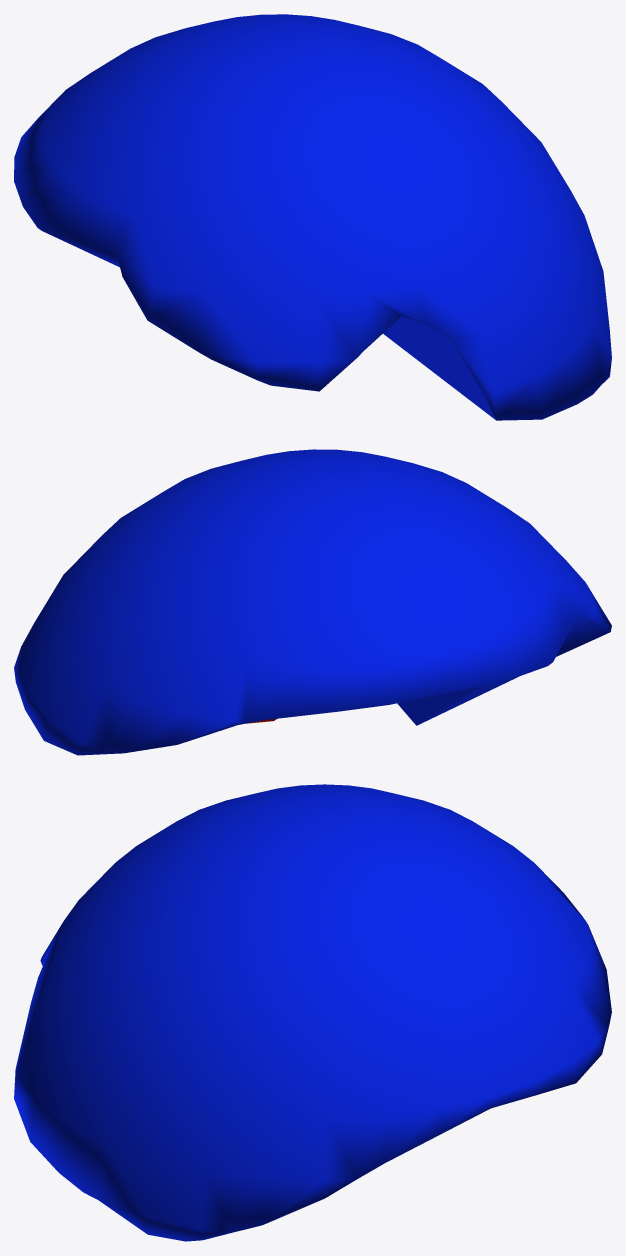
Rendered from Orbe_Cross_F3.fbx.
3 views of the same model, one above another, from view 1: azimuth 30°, elevation 25°; view 2: azimuth 150°, elevation 25°; view 3: azimuth 270°, elevation 25° (orthographic). The views are drawn at different scales.
Visible parts, largest first — view 1: Orbe_Cross_F3; view 2: Orbe_Cross_F3; view 3: Orbe_Cross_F3.
Boxes of the visible parts, x1=… form: Orbe_Cross_F3: x1=14, y1=14, x2=611, y2=420; Orbe_Cross_F3: x1=14, y1=449, x2=611, y2=755; Orbe_Cross_F3: x1=14, y1=784, x2=611, y2=1241.
Bounding box in the file's own units: 180 × 106 × 187.
